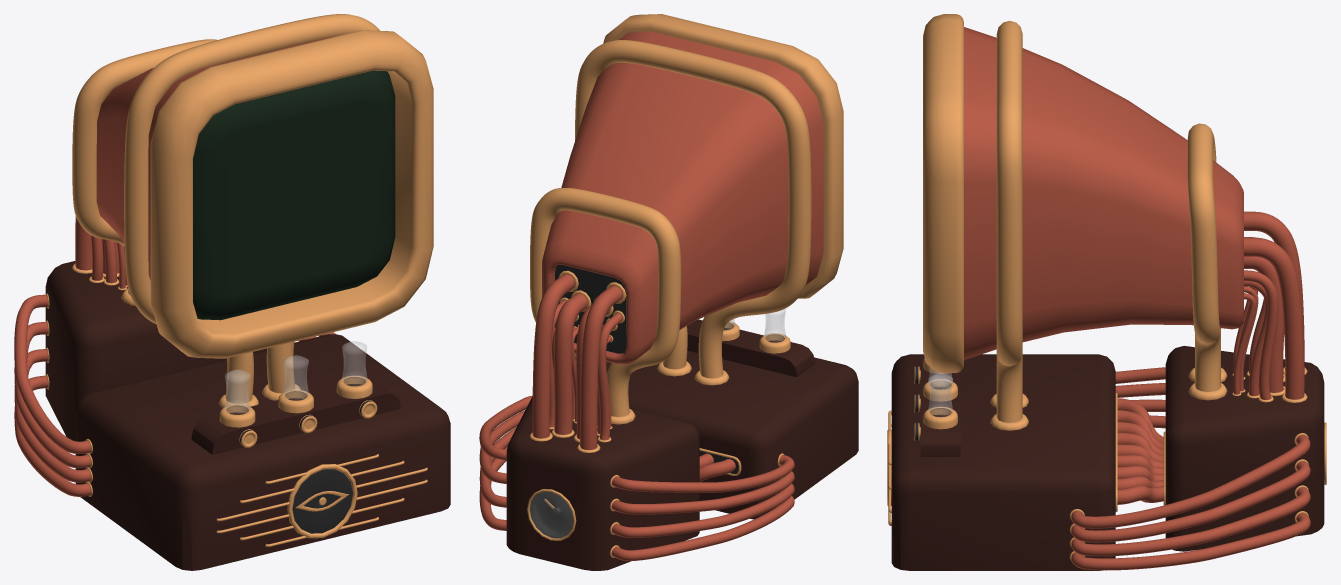
3 views of the same model, side by side, from view 1: azimuth 30°, elevation 25°; view 2: azimuth 150°, elevation 25°; view 3: azimuth 270°, elevation 25° (orthographic). The views are drawn at different scales.
Visible parts, largest first — view 1: Front Panel.001, Tv box.001, Tv Support.001, Tv box 2.001, Boxes Curve.001, Control Panel.001, Monitor Panel.001, Bulb.001, Logo.001, Logo Curve.001, Pipe.001, Tv Box Curve.001; view 2: Monitor Panel.001, Tv Support.001, Tv box 2.001, Tv box.001, Boxes Curve.001, Pipe.001, Front Panel.001, Control Panel.001, Pressure Watch.001, Back Panel.001, Bulb.001, Tv Box Curve.001 (+2 smaller); view 3: Monitor Panel.001, Tv box.001, Tv box 2.001, Tv Support.001, Boxes Curve.001, Front Panel.001, Pipe.001, Cube Pipes.001, Control Panel.001, Bulb.001, Tv Box Curve.001.
Boxes of the visible parts, x1,y1,x2,y2 form: Front Panel.001: (150, 30, 433, 358); Tv box.001: (75, 334, 450, 570); Tv Support.001: (72, 14, 380, 403); Tv box 2.001: (45, 261, 266, 440); Boxes Curve.001: (14, 294, 335, 496); Control Panel.001: (191, 379, 400, 454); Monitor Panel.001: (96, 36, 334, 280); Bulb.001: (219, 341, 372, 427); Logo.001: (287, 464, 357, 538); Logo Curve.001: (216, 454, 427, 546); Pipe.001: (75, 216, 127, 288); Tv Box Curve.001: (121, 288, 300, 407); Monitor Panel.001: (542, 31, 823, 364); Tv Support.001: (530, 40, 811, 416); Tv box 2.001: (506, 396, 699, 570); Tv box.001: (576, 350, 858, 519); Boxes Curve.001: (479, 395, 794, 561); Pipe.001: (532, 274, 622, 450); Front Panel.001: (603, 14, 843, 298); Control Panel.001: (687, 319, 814, 377); Pressure Watch.001: (527, 489, 576, 540); Back Panel.001: (555, 265, 626, 353); Bulb.001: (722, 308, 790, 353); Tv Box Curve.001: (611, 361, 729, 424); Monitor Panel.001: (964, 27, 1243, 359); Tv box.001: (891, 354, 1115, 570); Tv box 2.001: (1165, 346, 1324, 551); Tv Support.001: (996, 20, 1220, 422); Boxes Curve.001: (1071, 367, 1310, 570); Front Panel.001: (923, 14, 963, 372); Pipe.001: (1233, 211, 1304, 399); Cube Pipes.001: (1117, 398, 1163, 504); Control Panel.001: (920, 355, 960, 456); Bulb.001: (923, 358, 957, 429); Tv Box Curve.001: (990, 367, 1227, 430).
Size of the model in its own units: 2.32 by 3.28 by 2.89.
